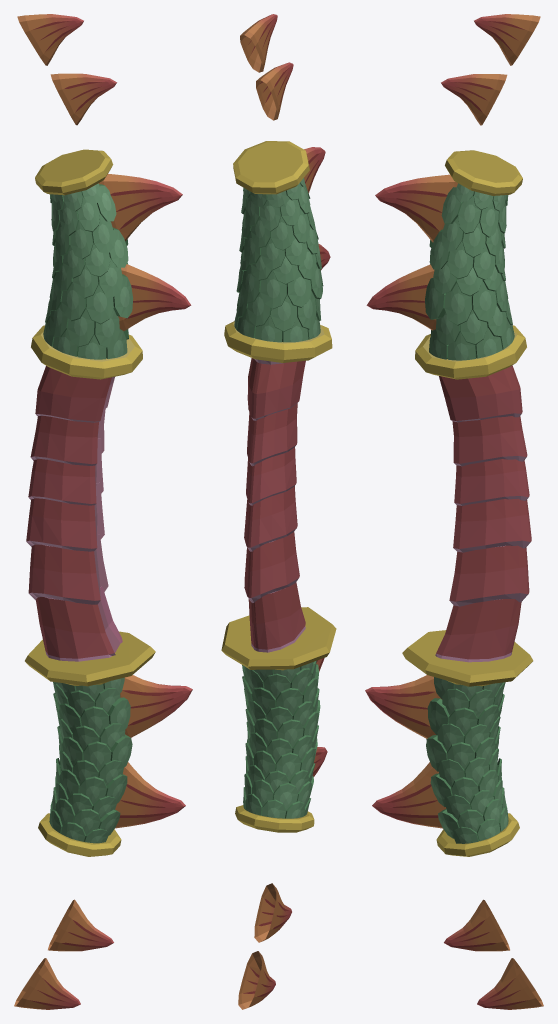
File: mediumBowChineseDragonHandle.glb
3 renders of one model, left to right at view 1: azimuth 90°, elevation 25°; view 2: azimuth 150°, elevation 25°; view 3: azimuth 270°, elevation 25°, orthographic.
Parts seen in each view (by area): view 1: mediumBowChineseDragonHandle; view 2: mediumBowChineseDragonHandle; view 3: mediumBowChineseDragonHandle.
Part boxes in pixels (x1,y1,x2,y2): mediumBowChineseDragonHandle: (14,14,192,1009); mediumBowChineseDragonHandle: (221,14,336,1009); mediumBowChineseDragonHandle: (365,14,543,1009).
Bounding box in the file's own units: 0.1202 × 1.08 × 0.1761.
